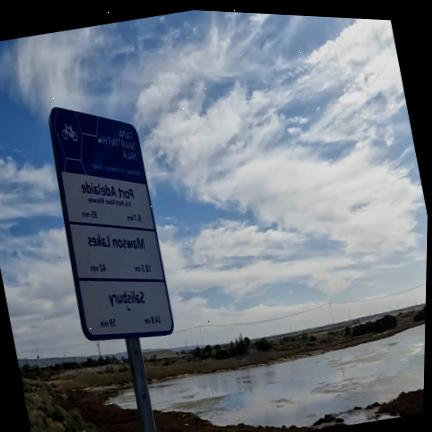Bike_Sign: (49, 108, 174, 432)
